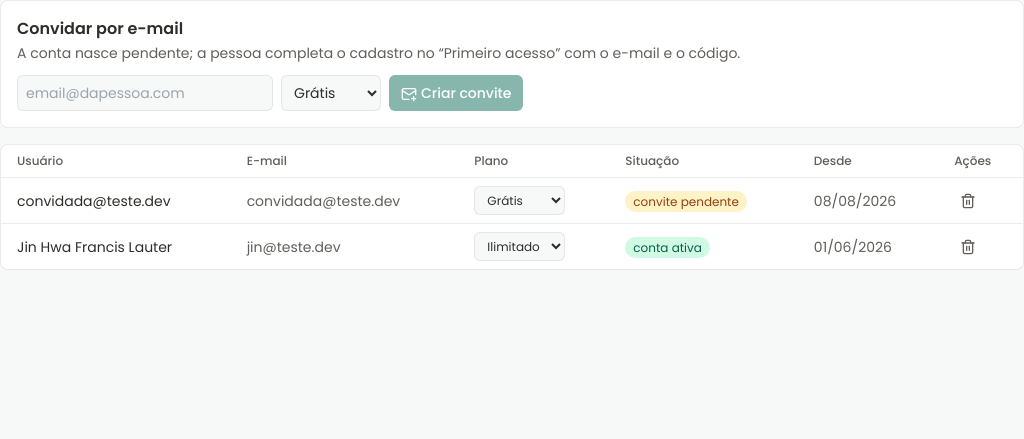
Test case: UsersAdminView — convites e contas › convite criado mostra o código com o aviso de cópia única
Type "nova@pessoa.dev" into the field with placeholder "email@dapessoa.com" at coordinates (145, 93), box [17,75,273,111]
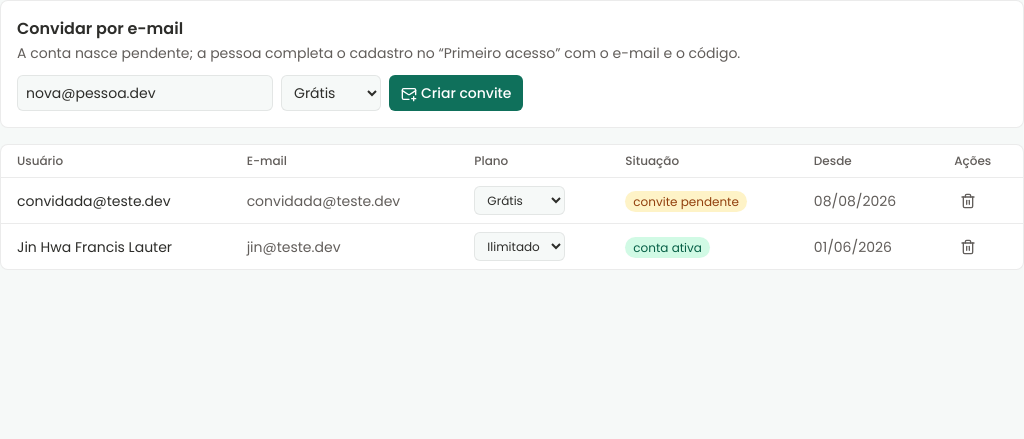
Click the button "Criar convite" at coordinates (456, 93), box [389,75,523,111]
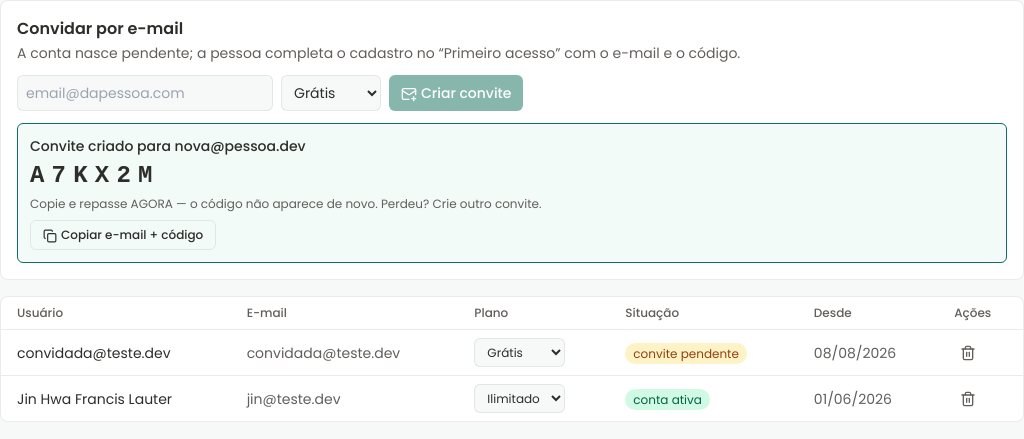
Expected: the text "A7KX2M" is shown, [30,162,160,189]
Expected: the text "o código não aparece de novo" is shown, [30,195,542,212]
